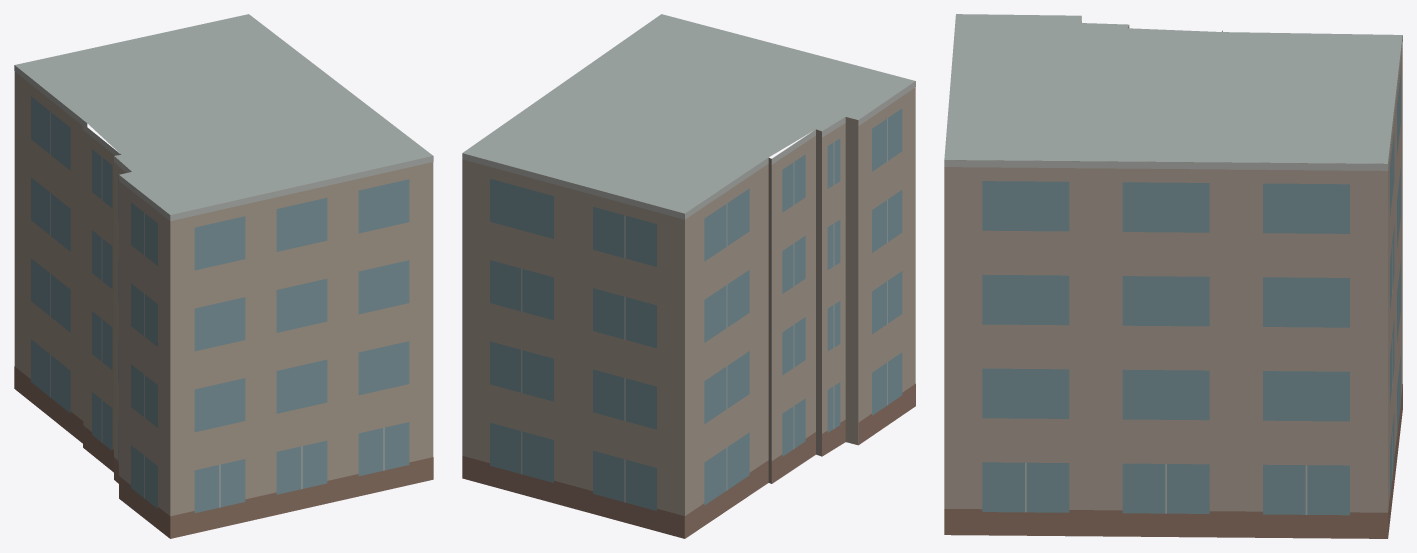
The model's file is survey-upis-32882001.glb.
The picture shows the model from 3 angles, left to right: view 1: azimuth 30°, elevation 25°; view 2: azimuth 150°, elevation 25°; view 3: azimuth 270°, elevation 25°; orthographic projection. The views are drawn at different scales.
Visible parts, largest first — view 1: survey-upis-32882001.tmp; view 2: survey-upis-32882001.tmp; view 3: survey-upis-32882001.tmp.
Boxes of the visible parts, box(x1,y1,x2,y2) form: survey-upis-32882001.tmp: box(14, 14, 433, 538); survey-upis-32882001.tmp: box(462, 14, 915, 538); survey-upis-32882001.tmp: box(944, 14, 1402, 538).
Bounding box in the file's own units: 11.1 × 12.95 × 14.35.
